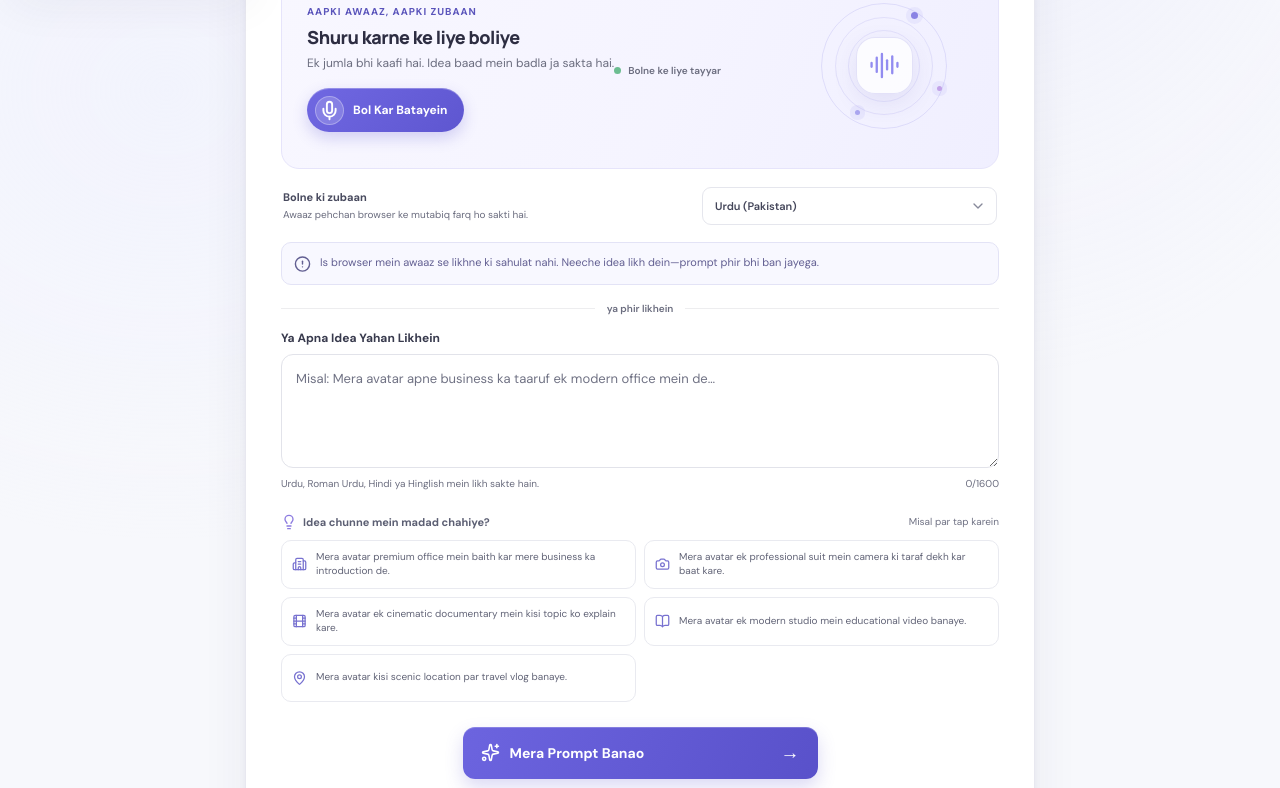
Flow Prompt Assistant workflow › selects the prompt for manual copying when clipboard access fails
(page scrolled)
In the text box labelled "Ya Apna Idea Yahan Likhein": (640, 411) top-left (281, 354), bottom-right (999, 468), type "An avatar waves beside the sea."
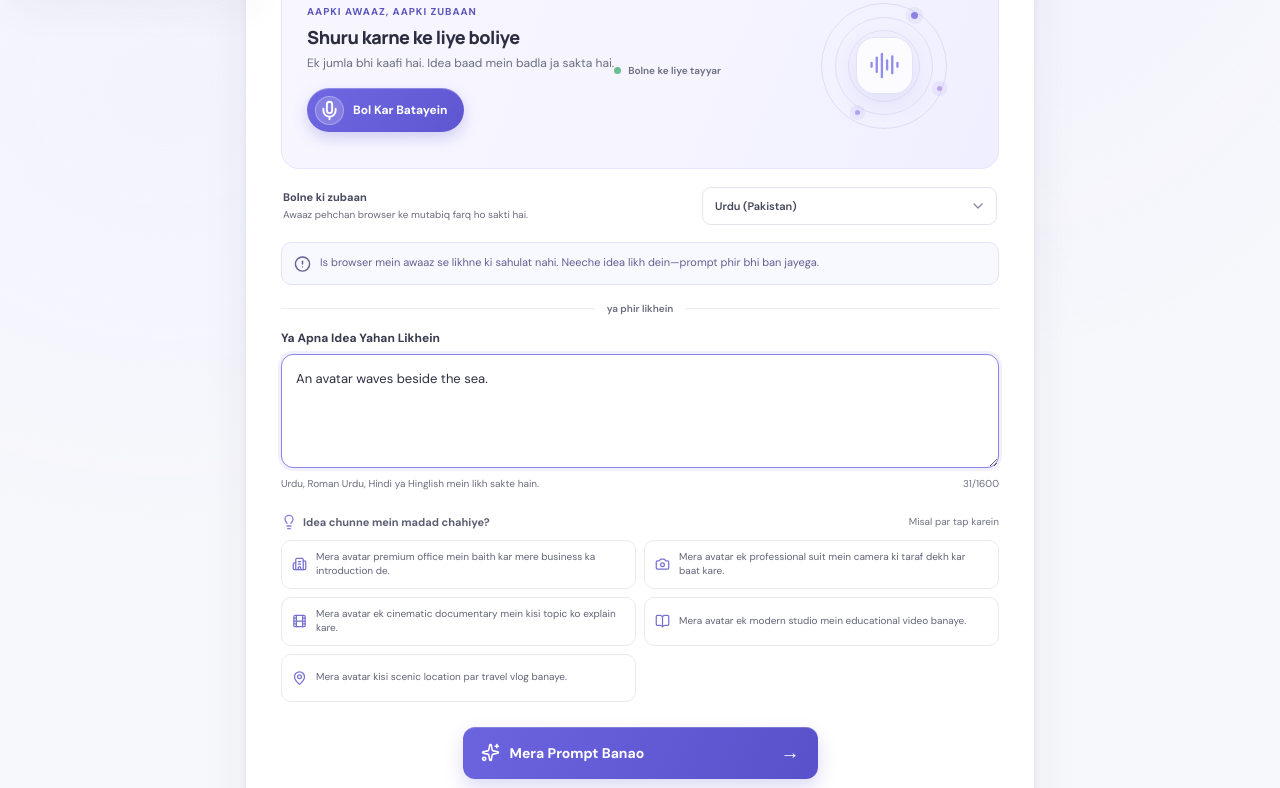
Click the button "Mera Prompt Banao →": (640, 752) top-left (462, 726), bottom-right (818, 778)
(page scrolled)
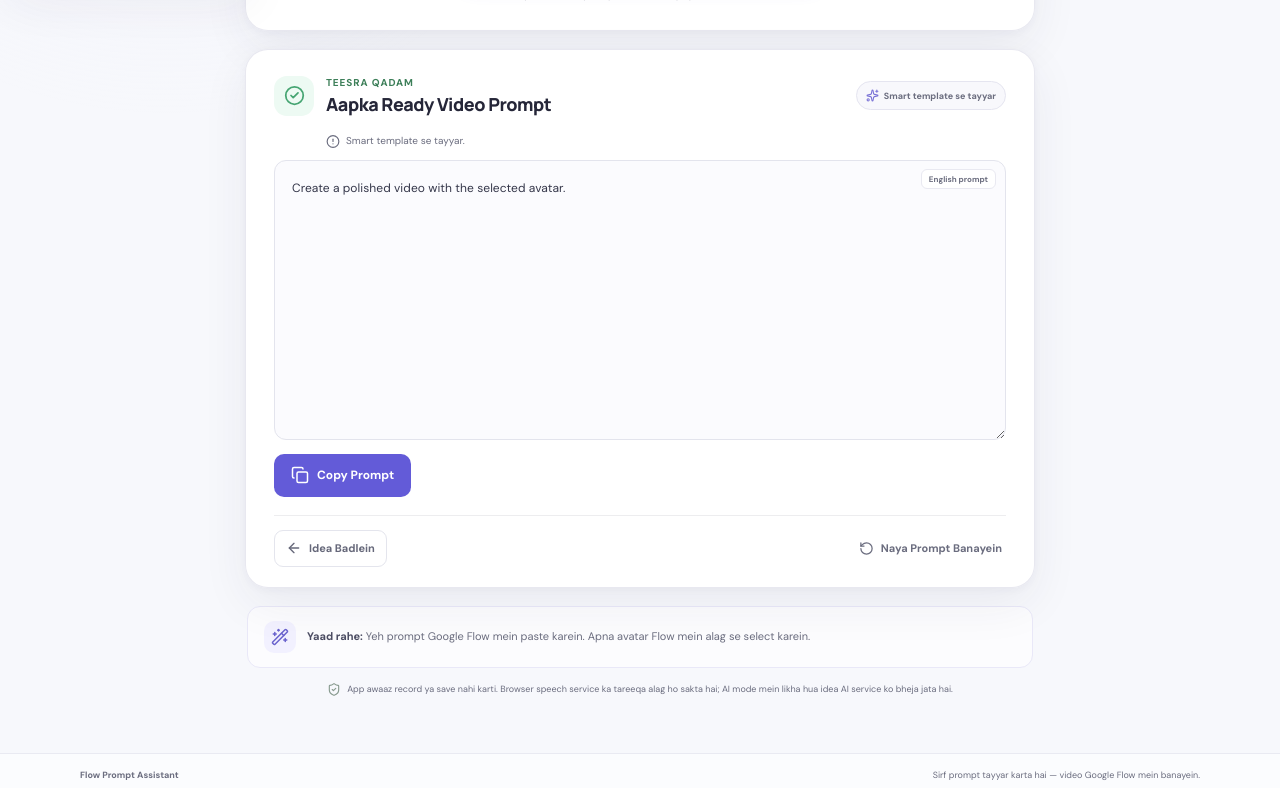
Now the heading "Aapka Ready Video Prompt" is shown, box top-left (326, 92), bottom-right (551, 116)
Click the button "Copy Prompt": (343, 475) top-left (274, 454), bottom-right (411, 497)
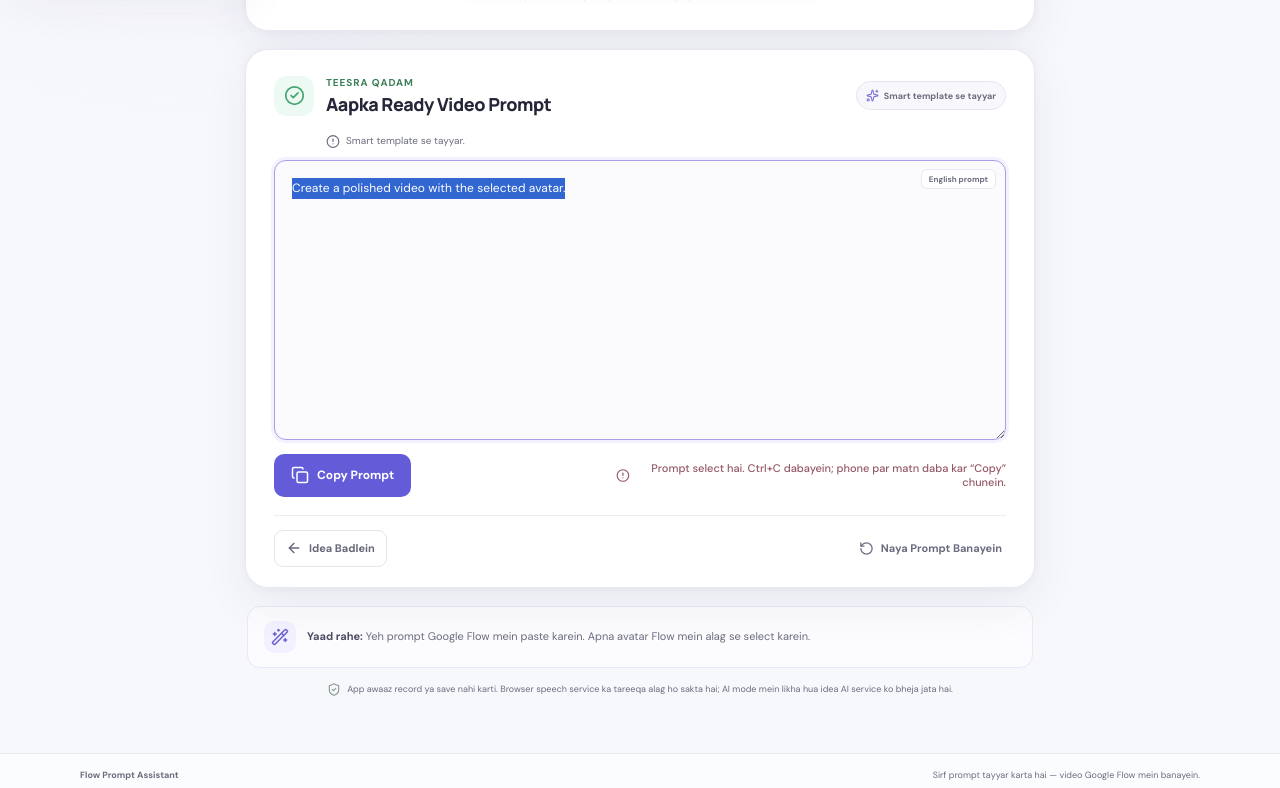
Now the text "Prompt select hai. Ctrl+C dabayein; phone par matn daba kar “Copy” chunein." is shown, box top-left (616, 461), bottom-right (1006, 489)
